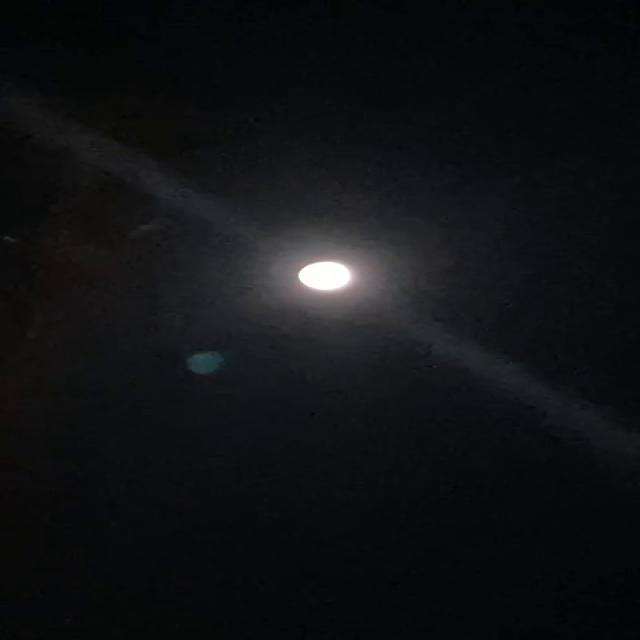moon: (286, 244, 391, 296)
